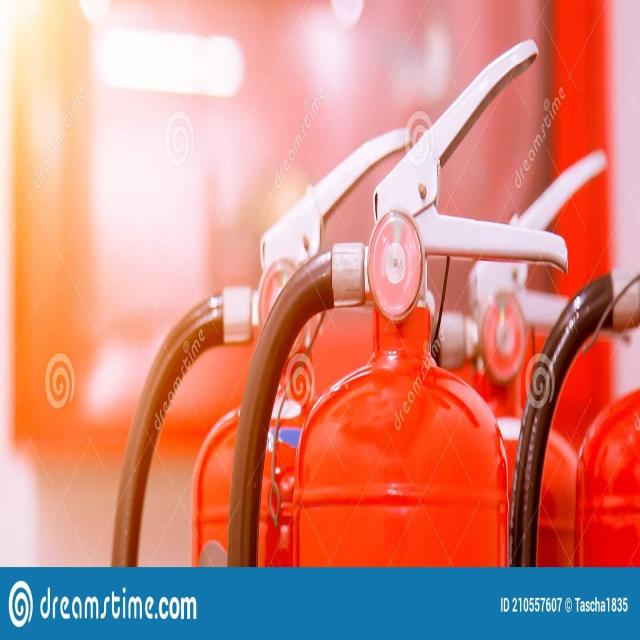fire_extinguisher: (225, 35, 573, 570), (103, 121, 432, 572)
